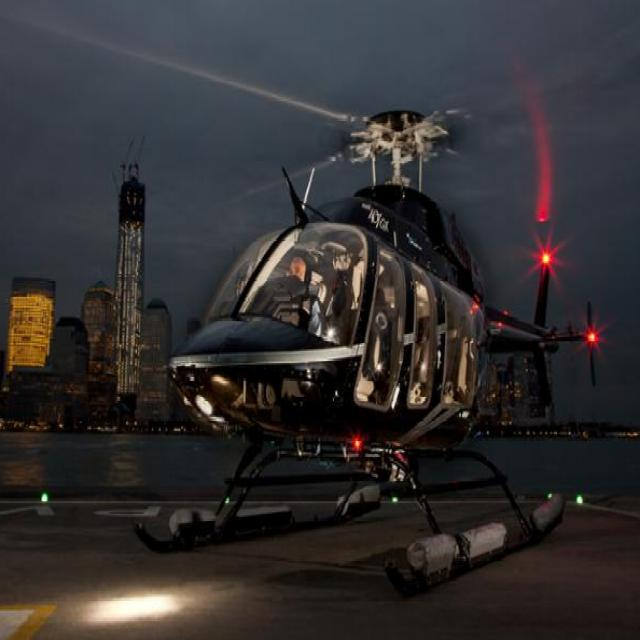helicopter: (110, 42, 605, 575)
